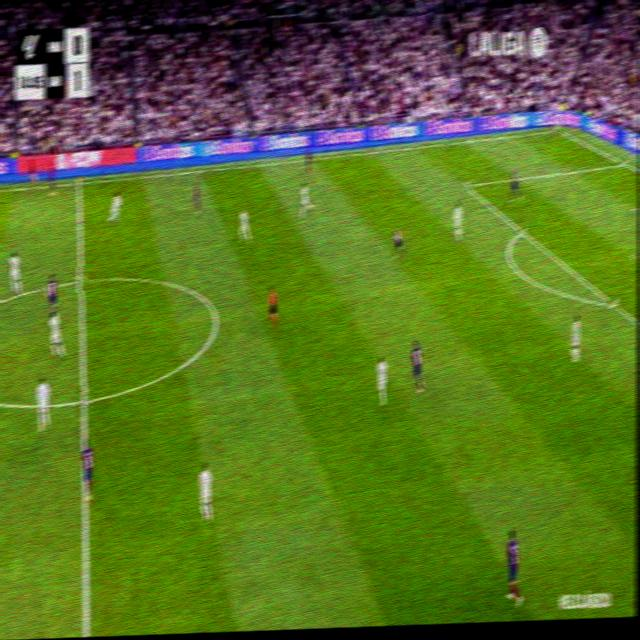bigarea_top_inner: (461, 178, 470, 192)
bigarea_top_outter: (618, 155, 628, 170)
bottom_arc_area_intersection: (607, 293, 619, 313)
corner: (553, 125, 563, 135)
halfcircle_bottom: (76, 385, 91, 416)
halfcircle_top: (74, 266, 89, 293)
midline_top_intersection: (74, 176, 84, 191)
smallarea_top_inner: (631, 200, 639, 216)
top_arc_area_intersection: (517, 222, 526, 239)
